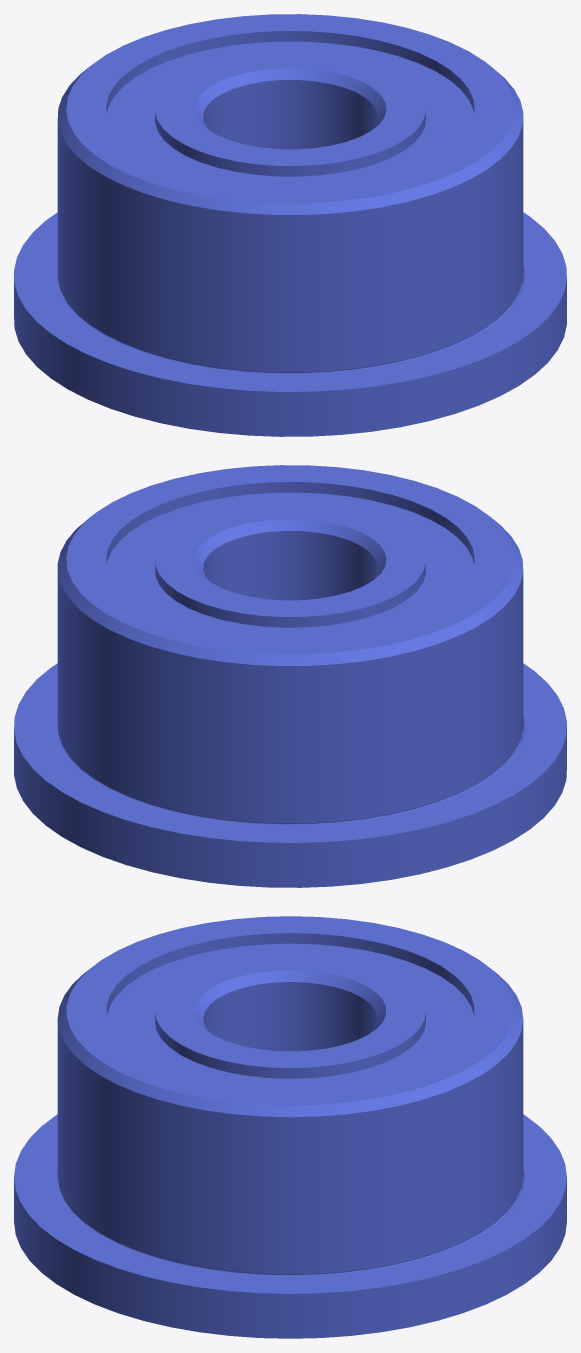
Rendered from MechaFerris-FlangedBearing.gltf.
3 views of the same model, one above another, from view 1: azimuth 30°, elevation 25°; view 2: azimuth 150°, elevation 25°; view 3: azimuth 270°, elevation 25° (orthographic).
Visible parts, largest first — view 1: BB-03; view 2: BB-03; view 3: BB-03.
Boxes of the visible parts, bbox=[...] form: BB-03: bbox=[14, 14, 566, 436]; BB-03: bbox=[14, 465, 566, 887]; BB-03: bbox=[14, 916, 566, 1338].
Size of the model in its own units: 0.0095 by 0.004 by 0.0095.
